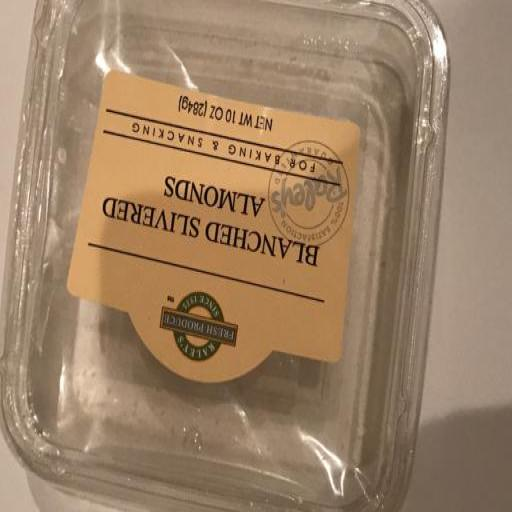waste: (0, 0, 463, 512)
